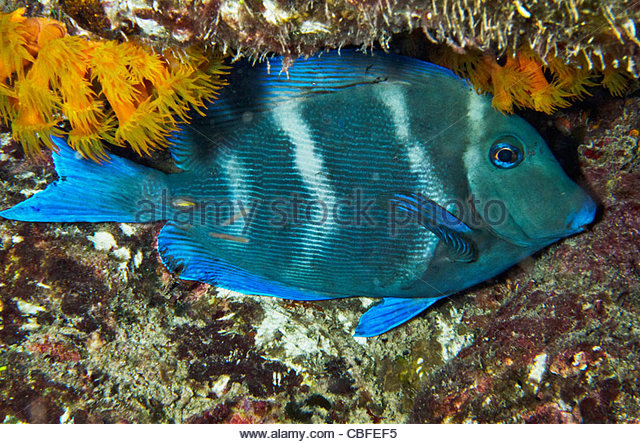Acanthurus_coeruleus: (1, 38, 602, 340)
